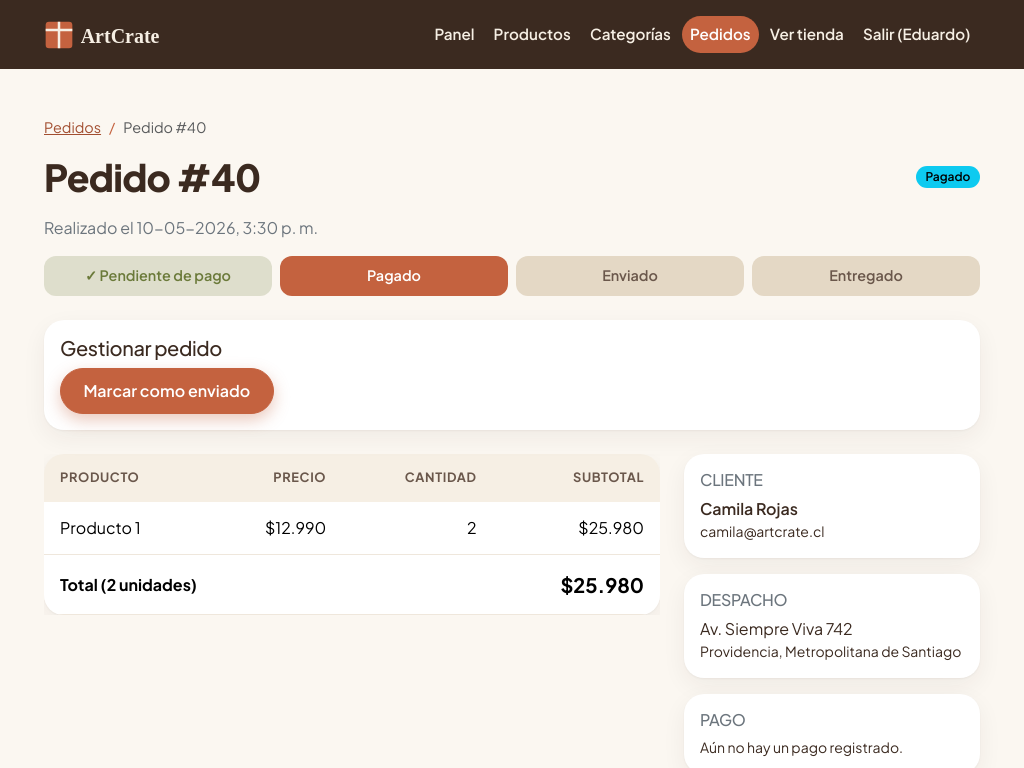
Pedidos del panel › gestión de un pedido › un pedido pagado se puede marcar como enviado, y solo eso
Click the button "Marcar como enviado" at (167, 391), box [60, 368, 274, 414]
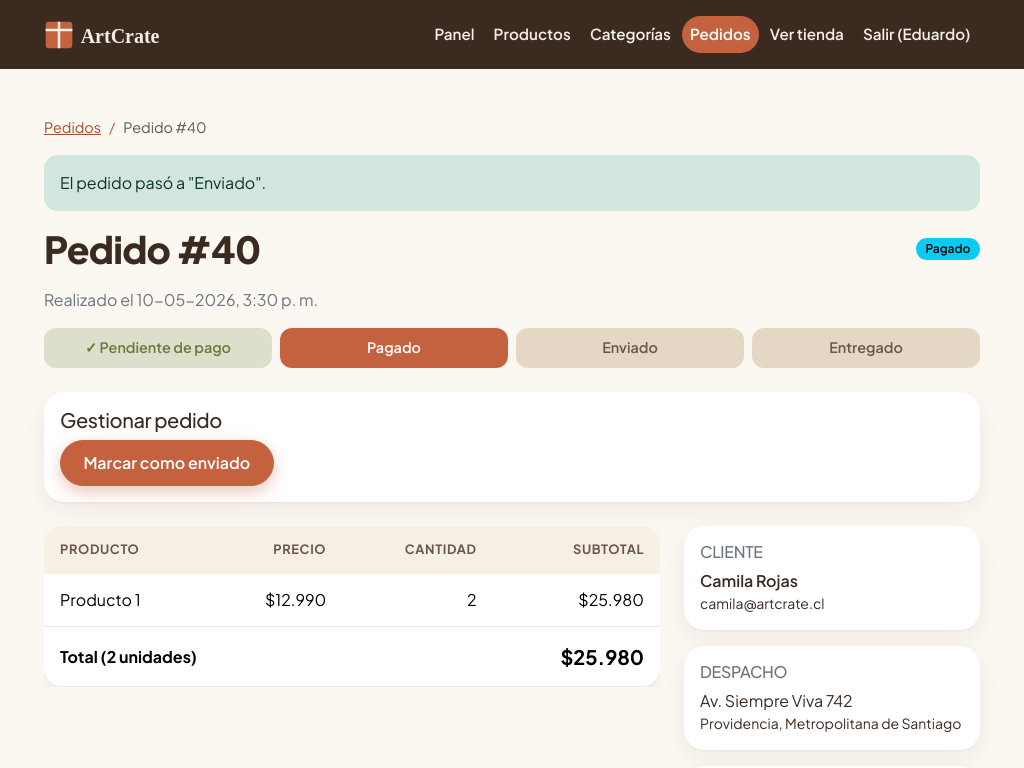
Check: the text "El pedido pasó a \"Enviado\"." is shown, box [44, 155, 980, 211]
